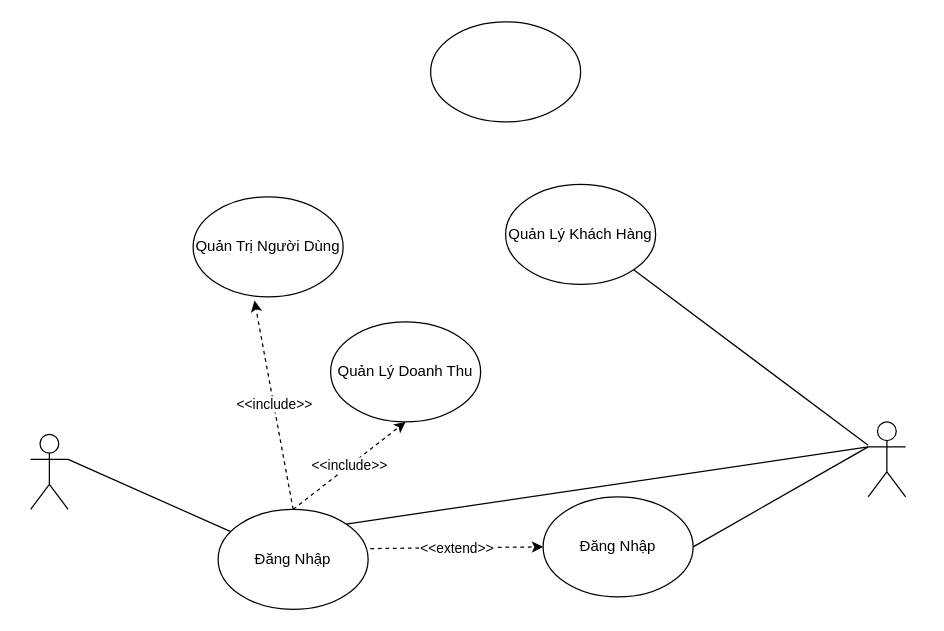
The diagram is 944 pixels wide and 631 high, and some of its shapes have lost their labels. The box of each missing label's shape, as (x1, y1, x2, y2) in pixels:
Nhân Viên: (867, 421, 906, 497)
Quản Lý: (29, 433, 68, 509)
Quản Lý Nhập Hàng: (429, 21, 581, 122)
